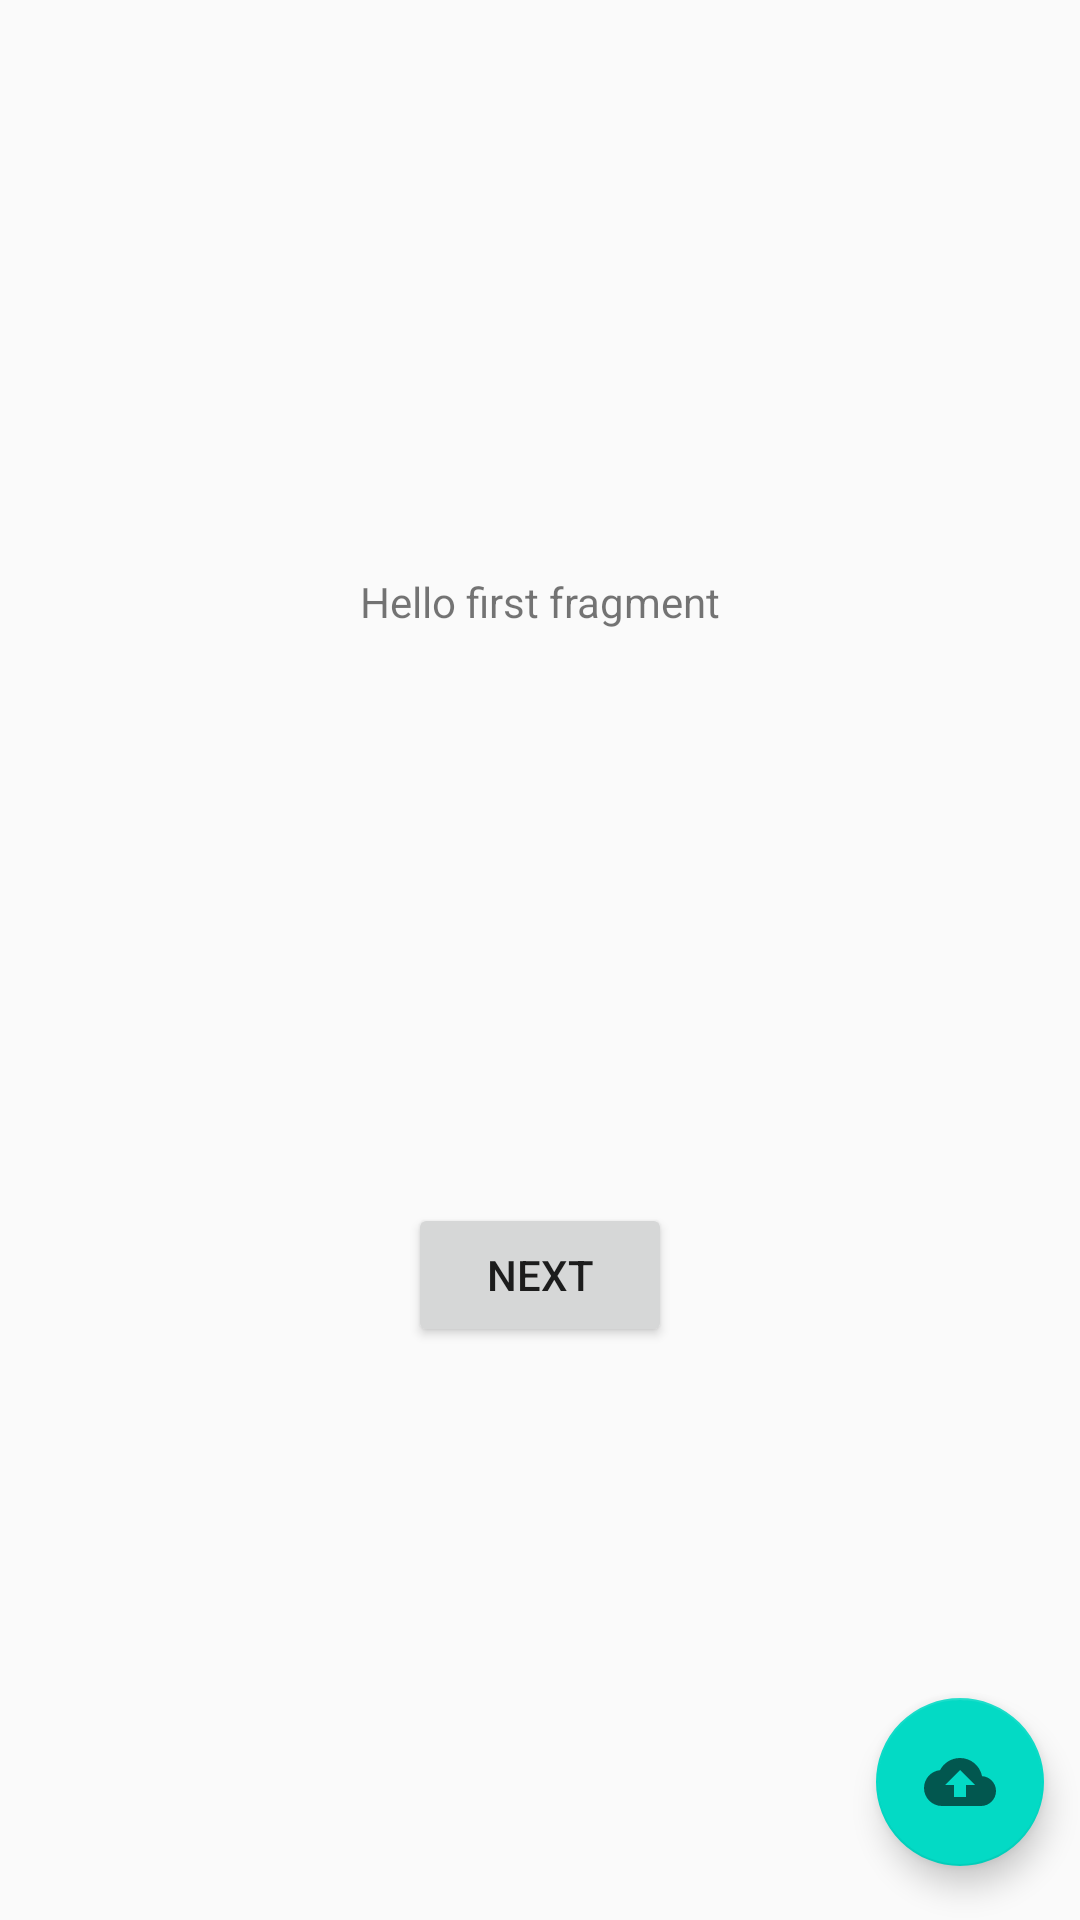

Icon bounding boxes for this 1080 x 1920 phone screenshot, format (x1, y1, x2, y2):
upload: (876, 1698, 1046, 1883)
